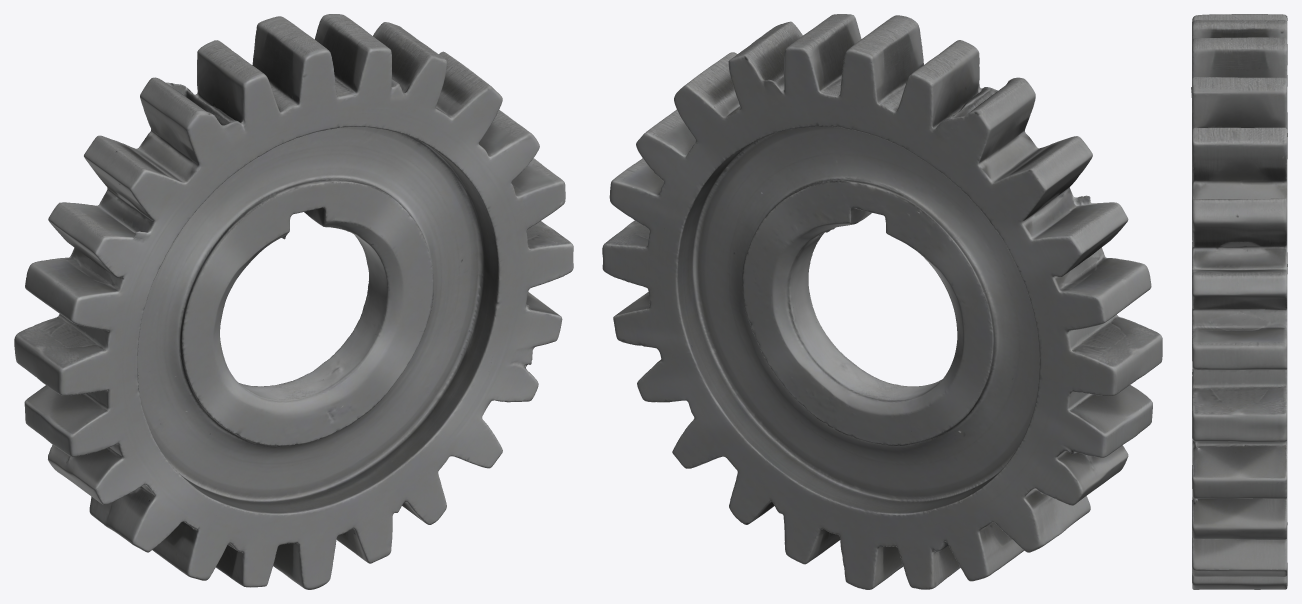
Rendered from Meshy_AI_Industrial_Gear_0514142613_texture.fbx.
3 renders of one model, left to right at view 1: azimuth 30°, elevation 25°; view 2: azimuth 150°, elevation 25°; view 3: azimuth 270°, elevation 25°, orthographic.
Parts seen in each view (by area): view 1: Mesh_0; view 2: Mesh_0; view 3: Mesh_0.
Boxes of the visible parts, x1,y1,x2,y2 form: Mesh_0: [14, 14, 573, 589]; Mesh_0: [602, 14, 1162, 589]; Mesh_0: [1191, 14, 1287, 589].
Size of the model in its own units: 200 by 200 by 33.06.
1 material, 1 textured.
